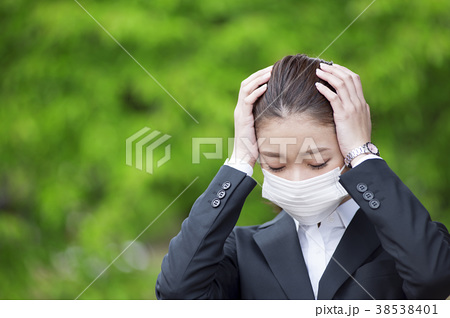mask: (256, 167, 351, 229)
